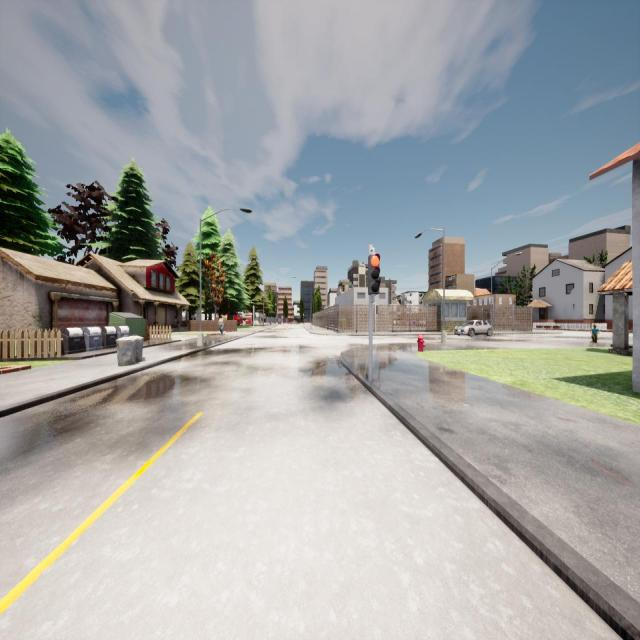Pedestrian: (592, 324, 598, 342), (218, 314, 223, 335)
Vehicle: (455, 319, 493, 336)
traffic_light: (368, 255, 379, 294), (303, 313, 304, 316)
